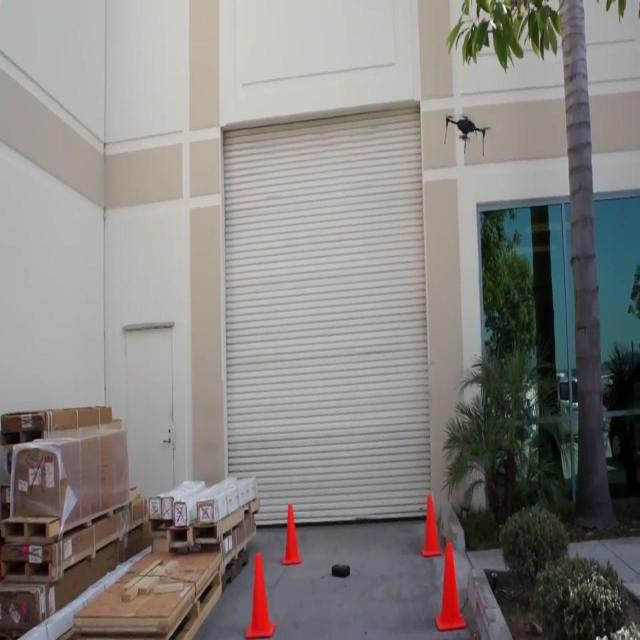drone: (441, 110, 493, 158)
